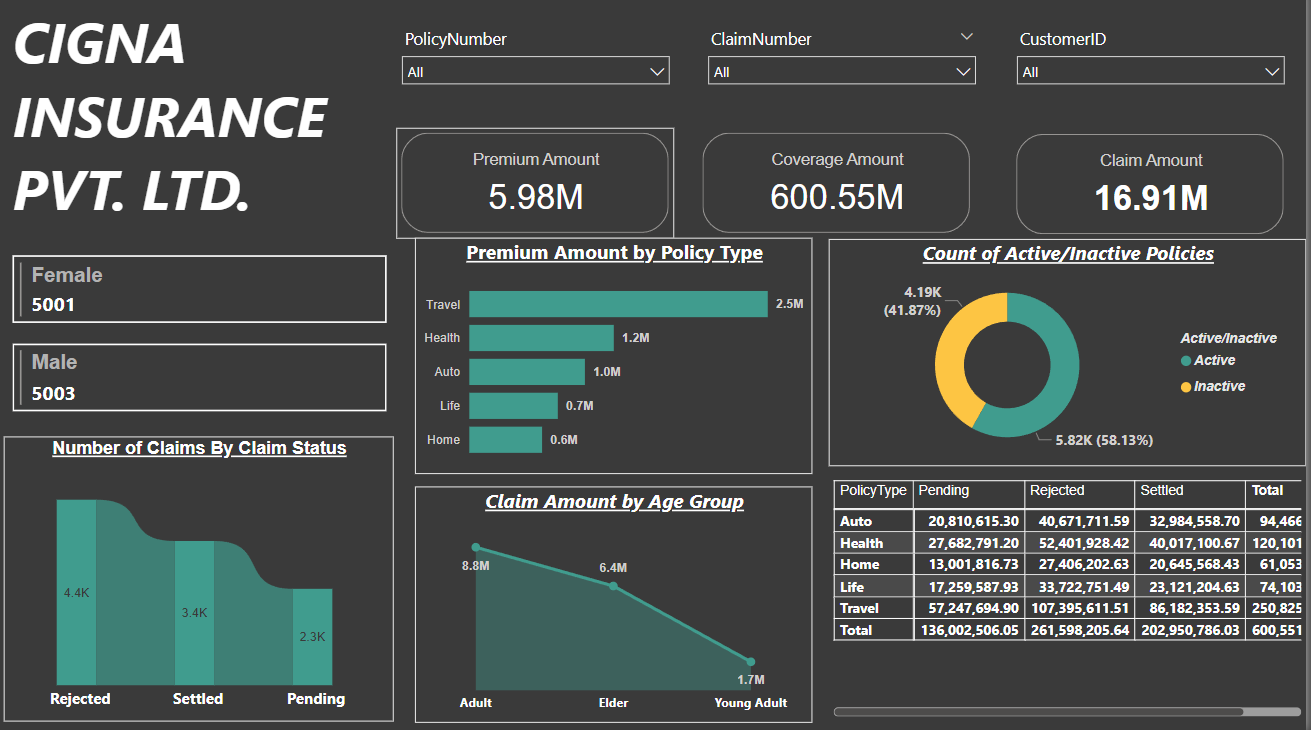

What the dashboard file says about the page in this screenshot:
{"tool":"powerbi","page":{"name":"CIGNA Insurance","canvas":[1280,720],"ordinal":0},"visuals":[{"type":"slicer","fields":{"Values":["InsuranceData.PolicyNumber"]},"box":[393.9,31,280,87.2],"z":0},{"type":"slicer","fields":{"Values":["InsuranceData.ClaimNumber"]},"box":[689.4,31,280,87.2],"z":1000},{"type":"slicer","fields":{"Values":["InsuranceData.CustomerID"]},"box":[989.1,31,280,87.2],"z":2000},{"type":"textbox","box":[21.2,10,372.5,242.5],"z":3000},{"type":"cardVisual","fields":{"Data":["Sum(InsuranceData.PremiumAmount)"]},"box":[398.3,134.4,269.9,107.7],"z":4000},{"type":"cardVisual","fields":{"Data":["Sum(InsuranceData.CoverageAmount)"]},"box":[690,134.4,269.9,107.7],"z":5000},{"type":"cardVisual","fields":{"Data":["Sum(InsuranceData.ClaimAmount)"]},"box":[993.8,135.6,269.9,107.7],"z":6000},{"type":"multiRowCard","fields":{"Values":["InsuranceData.Gender","CountNonNull(InsuranceData.Gender)"]},"box":[21.2,252.5,372.5,181.2],"z":7000},{"type":"ribbonChart","title":"Number of Claims By Claim Status","fields":{"Category":["InsuranceData.ClaimStatus"],"Y":["CountNonNull(InsuranceData.ClaimStatus)"]},"box":[18.8,433.8,377.5,276.2],"z":8000},{"type":"barChart","title":"Premium Amount by Policy Type","fields":{"Category":["InsuranceData.PolicyType"],"Y":["Sum(InsuranceData.PremiumAmount)"]},"box":[416.2,241.2,385,228.8],"z":9000},{"type":"lineChart","title":"Claim Amount by Age Group","fields":{"Category":["InsuranceData.Age Group"],"Y":["Sum(InsuranceData.ClaimAmount)"]},"box":[416.2,481.2,385,228.8],"z":10000},{"type":"donutChart","title":"Count of Active/Inactive Policies","fields":{"Category":["InsuranceData.Active/Inactive"],"Y":["CountNonNull(InsuranceData.Active/Inactive)"]},"box":[817.5,242.5,462.5,220],"z":11000},{"type":"pivotTable","fields":{"Values":["Sum(InsuranceData.CoverageAmount)"],"Rows":["InsuranceData.PolicyType"],"Columns":["InsuranceData.ClaimStatus"]},"box":[817.5,471.2,462.5,238.8],"z":12000}]}

Visuals, with their boxes in screenshot pixels (x1, y1, x2, y2), scaled from the page's 1280x720 canvas onto the 1311x730 screenshot:
slicer - InsuranceData.PolicyNumber: (403,31,690,120)
slicer - InsuranceData.ClaimNumber: (706,31,993,120)
slicer - InsuranceData.CustomerID: (1013,31,1300,120)
textbox: (22,10,403,256)
cardVisual - Sum(InsuranceData.PremiumAmount): (408,136,684,245)
cardVisual - Sum(InsuranceData.CoverageAmount): (707,136,983,245)
cardVisual - Sum(InsuranceData.ClaimAmount): (1018,137,1294,247)
multiRowCard - InsuranceData.Gender x CountNonNull(InsuranceData.Gender): (22,256,403,440)
"Number of Claims By Claim Status" ribbonChart: (19,440,406,720)
"Premium Amount by Policy Type" barChart: (426,245,821,477)
"Claim Amount by Age Group" lineChart: (426,488,821,720)
"Count of Active/Inactive Policies" donutChart: (837,246,1310,469)
pivotTable - Sum(InsuranceData.CoverageAmount) x InsuranceData.PolicyType: (837,478,1310,720)
